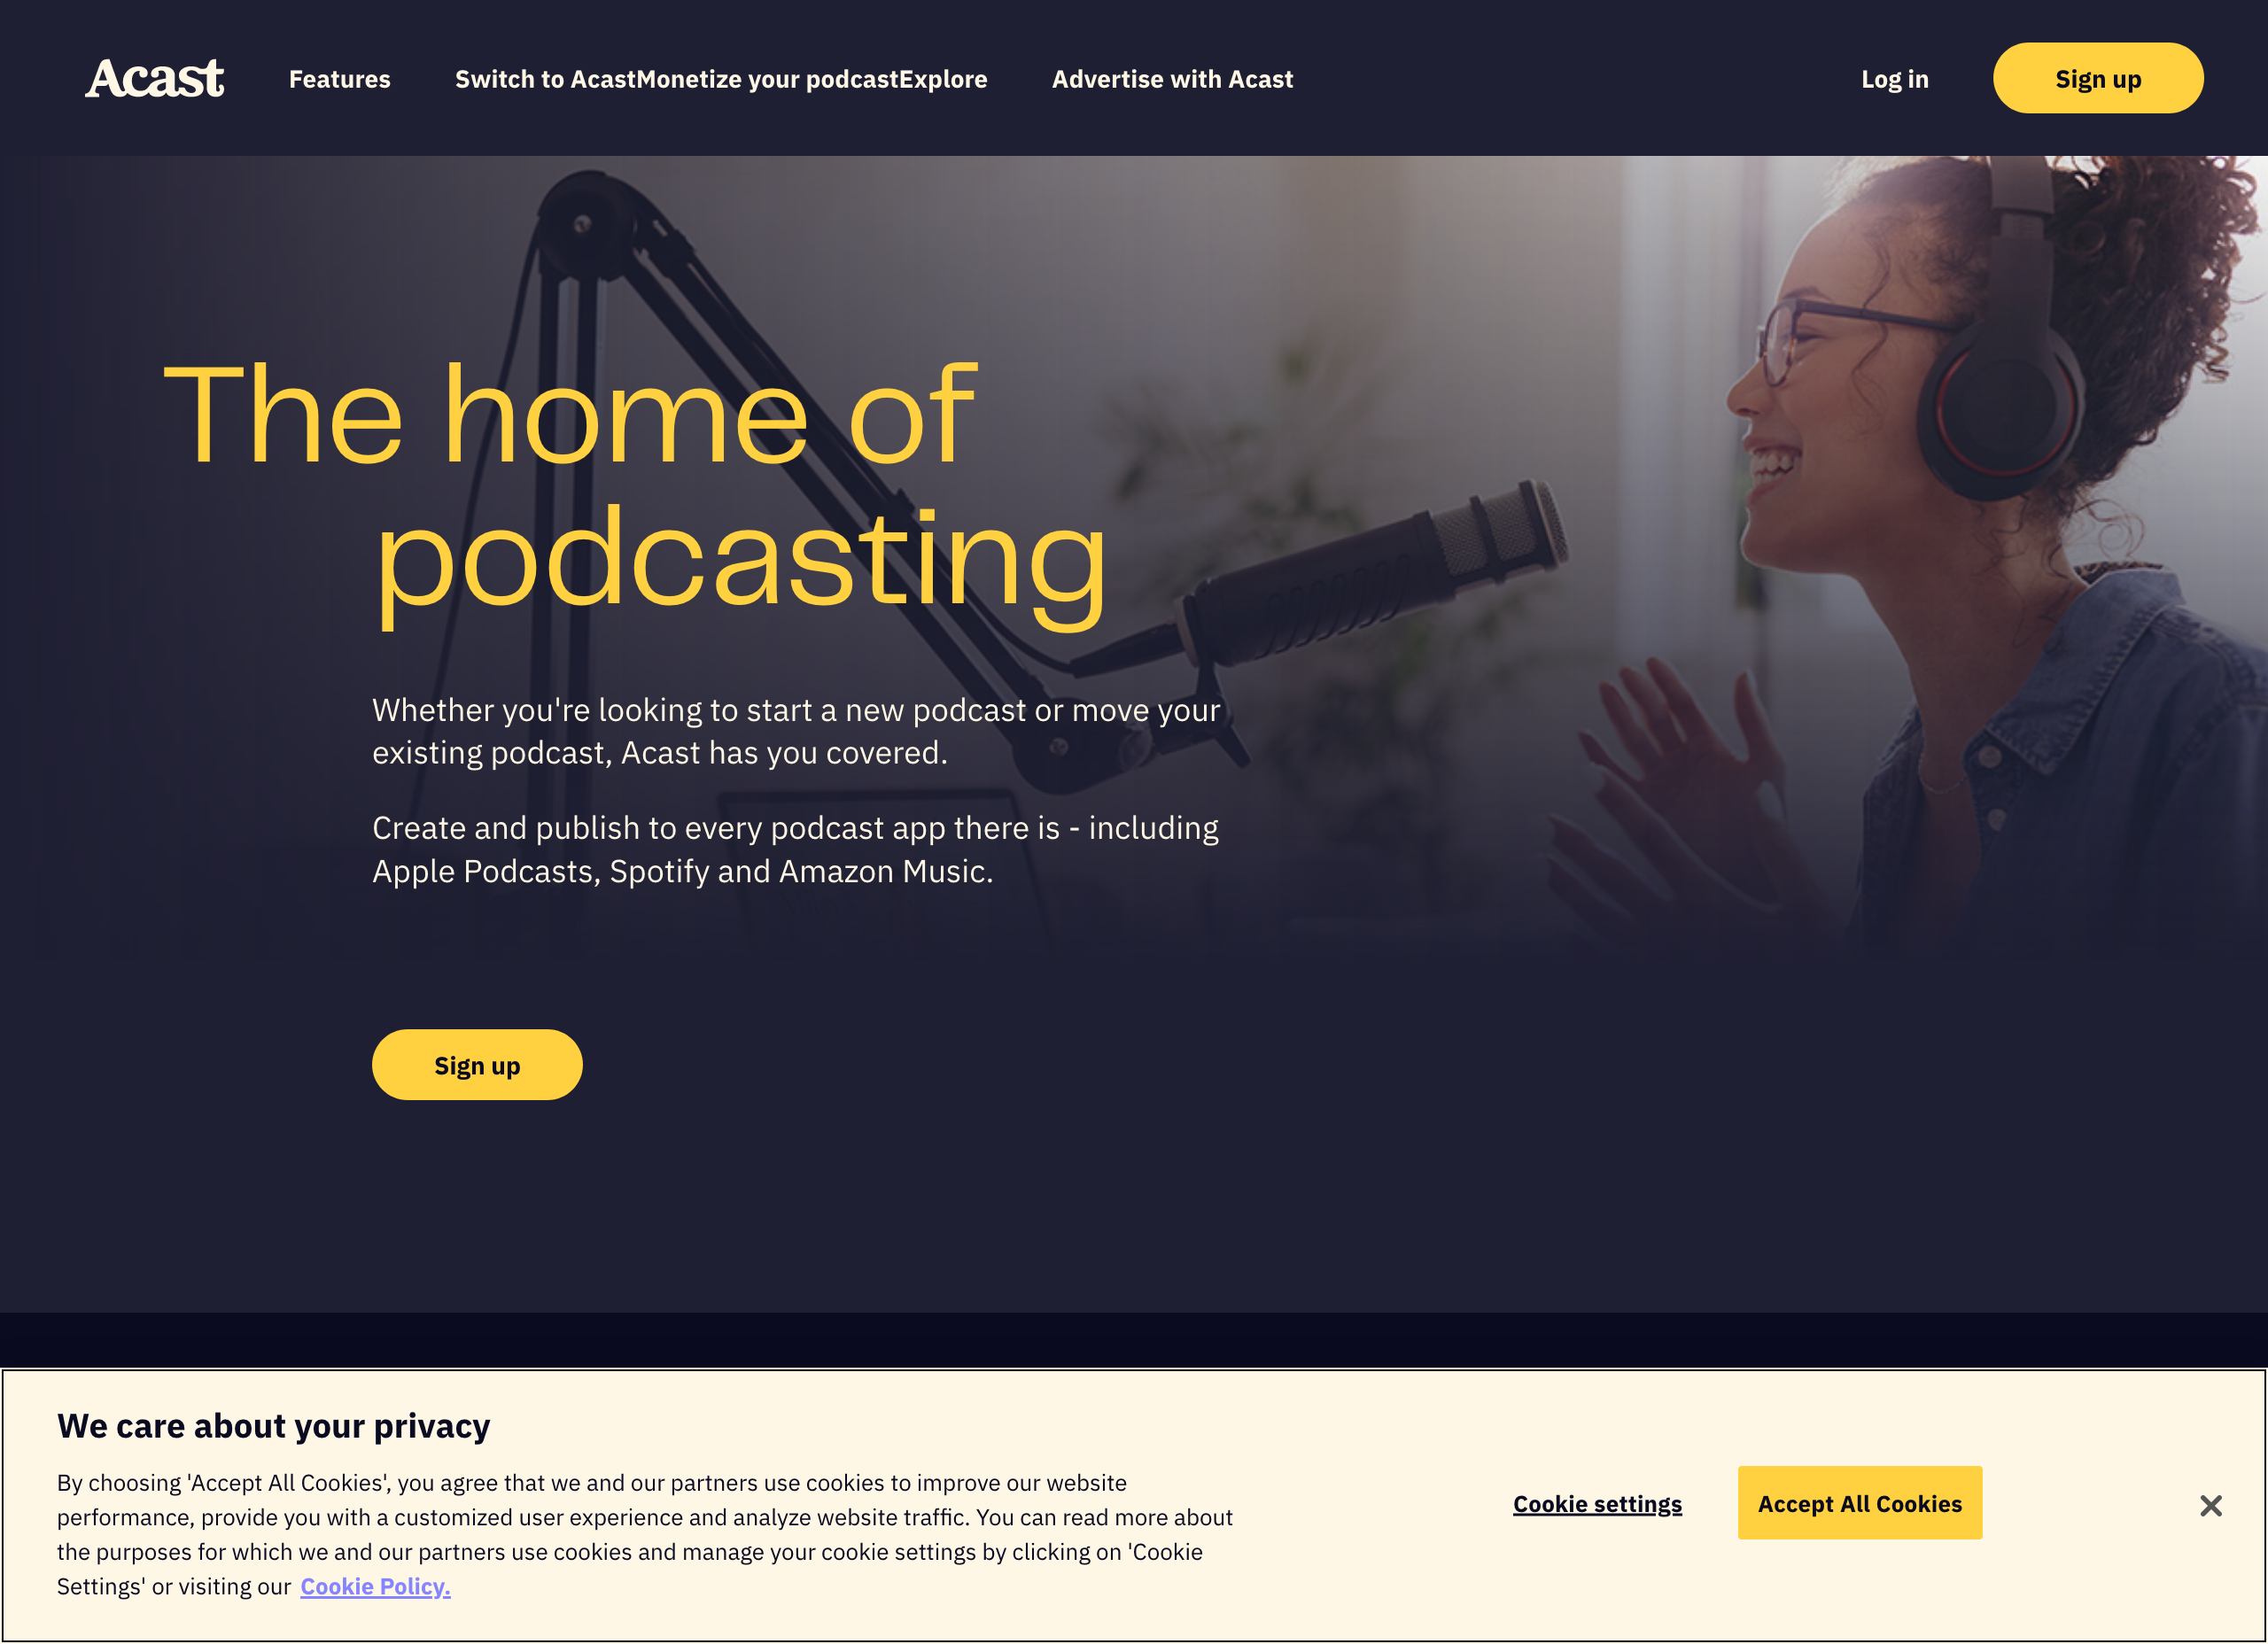Login: (1858, 65, 1939, 99)
